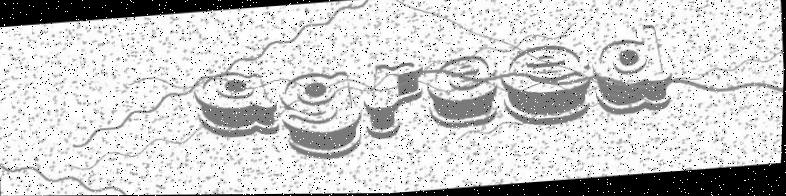a: (190, 68, 284, 143)
d: (588, 22, 675, 118)
e: (499, 43, 594, 129), (423, 55, 502, 131)
g: (278, 69, 367, 163)
r: (361, 62, 428, 142)
